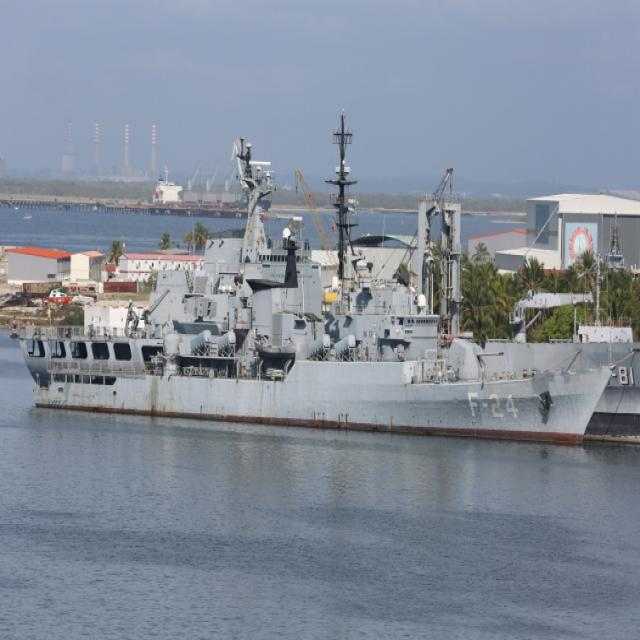Fragata: (15, 183, 616, 455)
